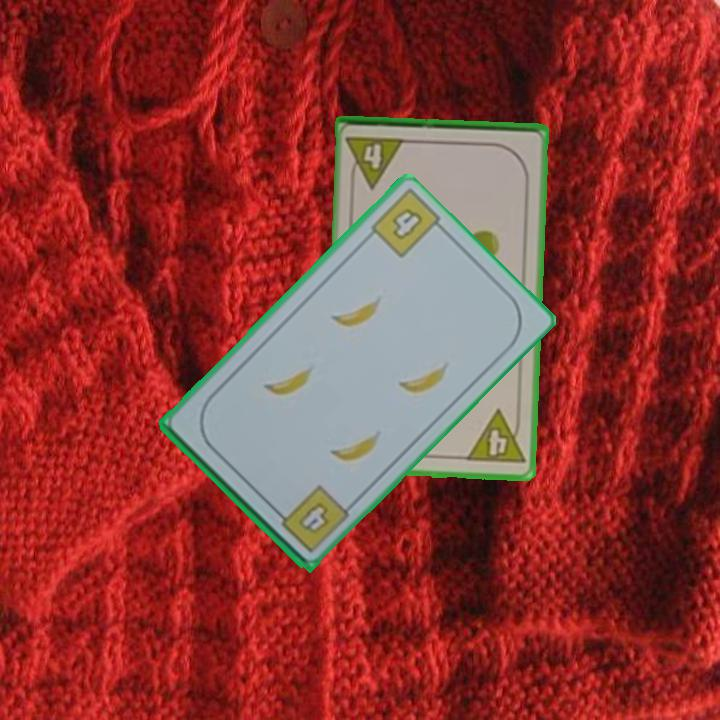4b: (270, 481, 352, 556), (388, 203, 426, 243)
4p: (462, 406, 528, 467), (343, 132, 408, 190)
